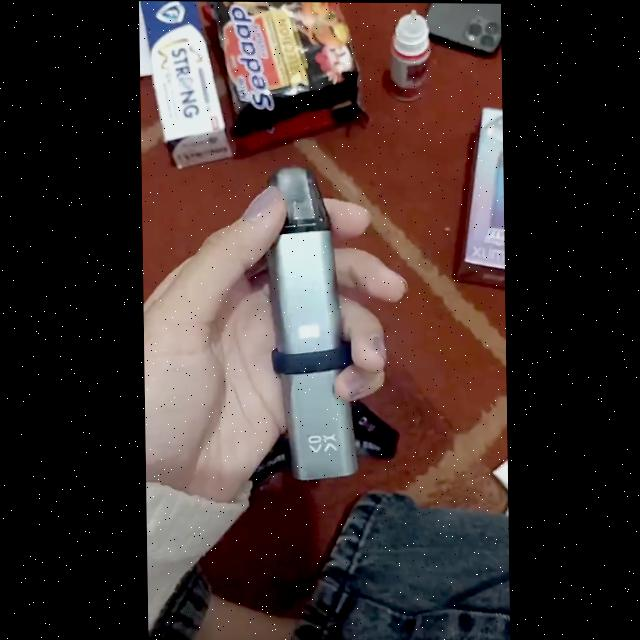vape: (266, 158, 360, 482)
